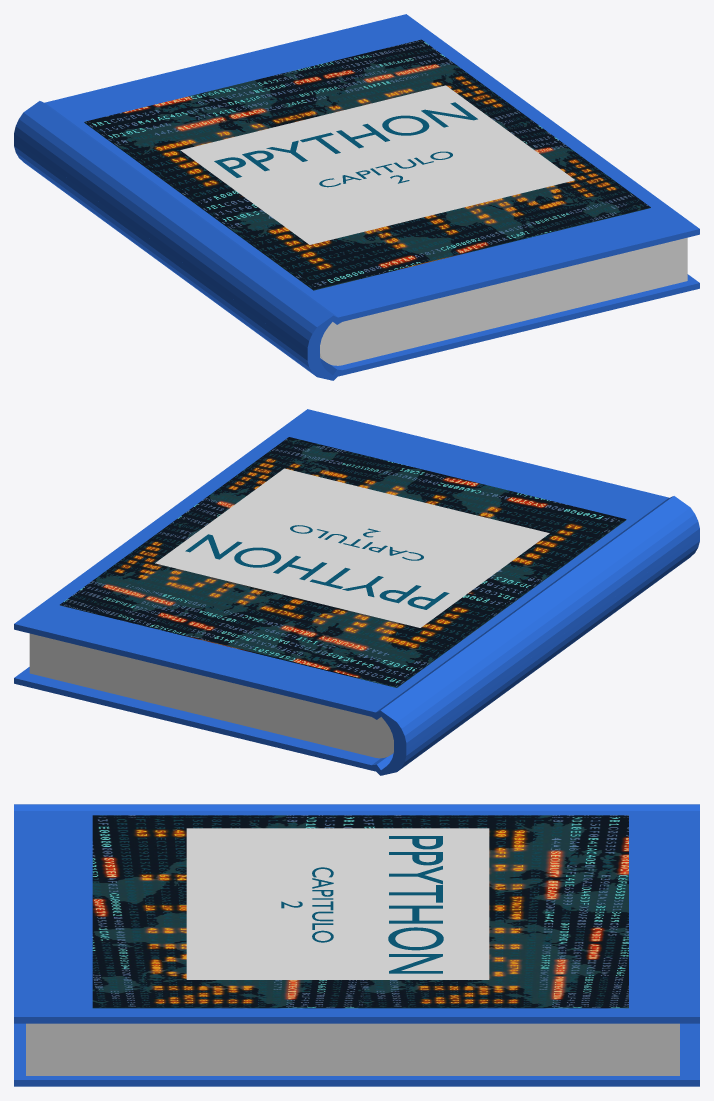
The model's file is Libro2.fbx.
3 renders of one model, top to bottom at view 1: azimuth 30°, elevation 25°; view 2: azimuth 150°, elevation 25°; view 3: azimuth 270°, elevation 25°, orthographic. The views are drawn at different scales.
Visible parts, largest first — view 1: Pasta, fondo, Plano, Cubo, PPYTHON, PPYTHON.001; view 2: Pasta, fondo, Plano, Cubo, PPYTHON, PPYTHON.001; view 3: fondo, Pasta, Plano, Cubo, PPYTHON, PPYTHON.001.
Part boxes in pixels (bbox=[...]): Pasta: bbox=[14, 14, 699, 380]; fondo: bbox=[84, 39, 650, 290]; Plano: bbox=[180, 85, 574, 244]; Cubo: bbox=[320, 237, 687, 365]; PPYTHON: bbox=[214, 102, 477, 177]; PPYTHON.001: bbox=[319, 151, 452, 187]; Pasta: bbox=[14, 409, 699, 775]; fondo: bbox=[60, 437, 626, 687]; Plano: bbox=[155, 468, 549, 627]; Cubo: bbox=[29, 633, 393, 758]; PPYTHON: bbox=[185, 534, 449, 609]; PPYTHON.001: bbox=[290, 525, 423, 560]; fondo: bbox=[92, 815, 628, 1008]; Pasta: bbox=[14, 804, 699, 1086]; Plano: bbox=[186, 828, 489, 979]; Cubo: bbox=[26, 1023, 679, 1075]; PPYTHON: bbox=[388, 836, 443, 973]; PPYTHON.001: bbox=[281, 867, 333, 942].
Size of the model in its own units: 90.46 by 15.35 by 117.
